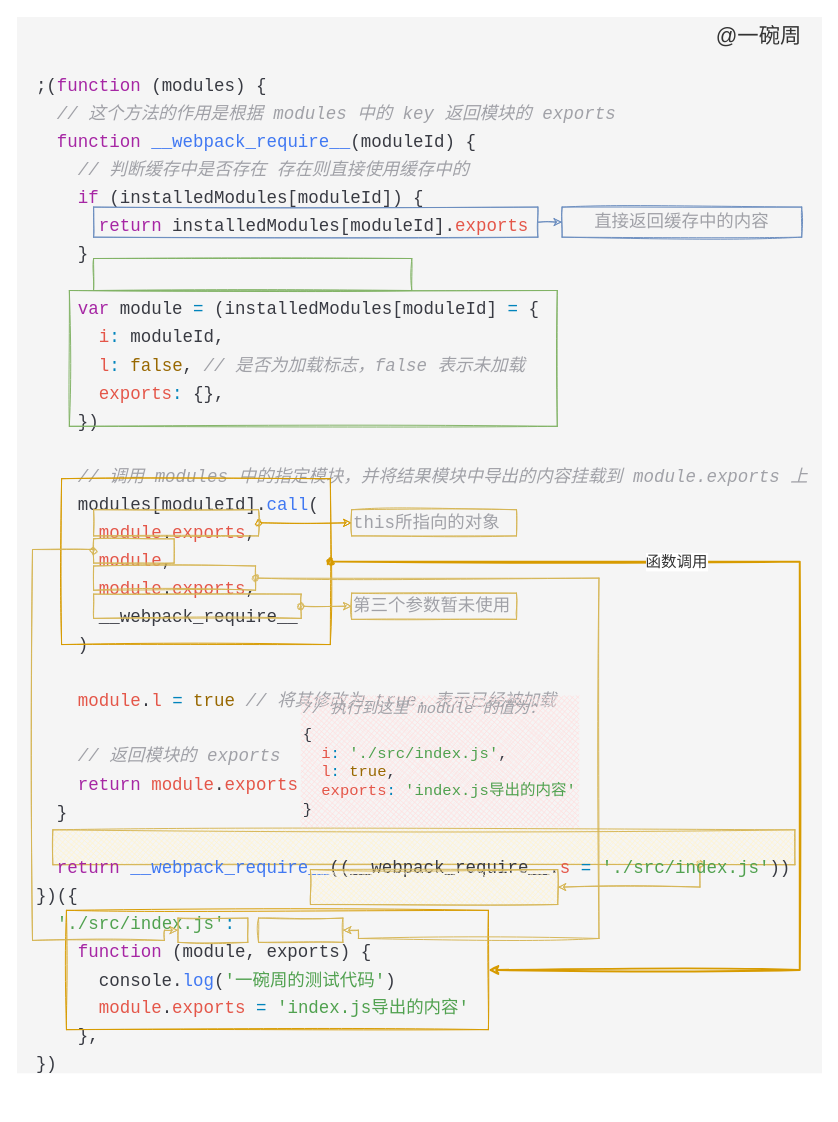
Some shapes in this 838 by 1122 pixel diagram are drawn without their labels. The shapes that lost their labels are listed below. From the top down, each one's centre as x and y in pixels, then its label:
the point at 252,274: 创建一个新的模块，并进行缓存
the point at 433,887: 将最终导出的模块进行返回
